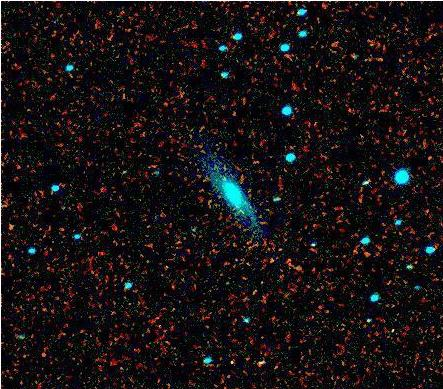star: (378, 317, 408, 347)
